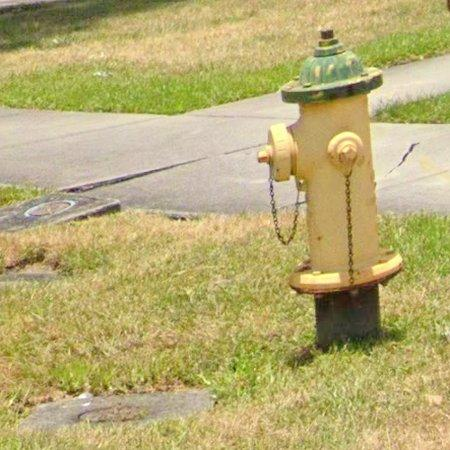a fire hydrant: (258, 29, 404, 350)
